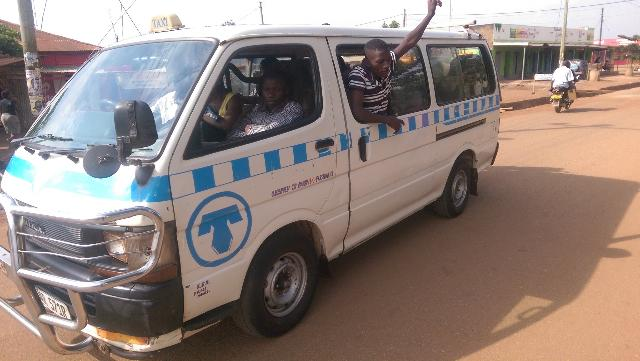motorcycle: (550, 63, 580, 113)
van: (0, 12, 502, 361)
